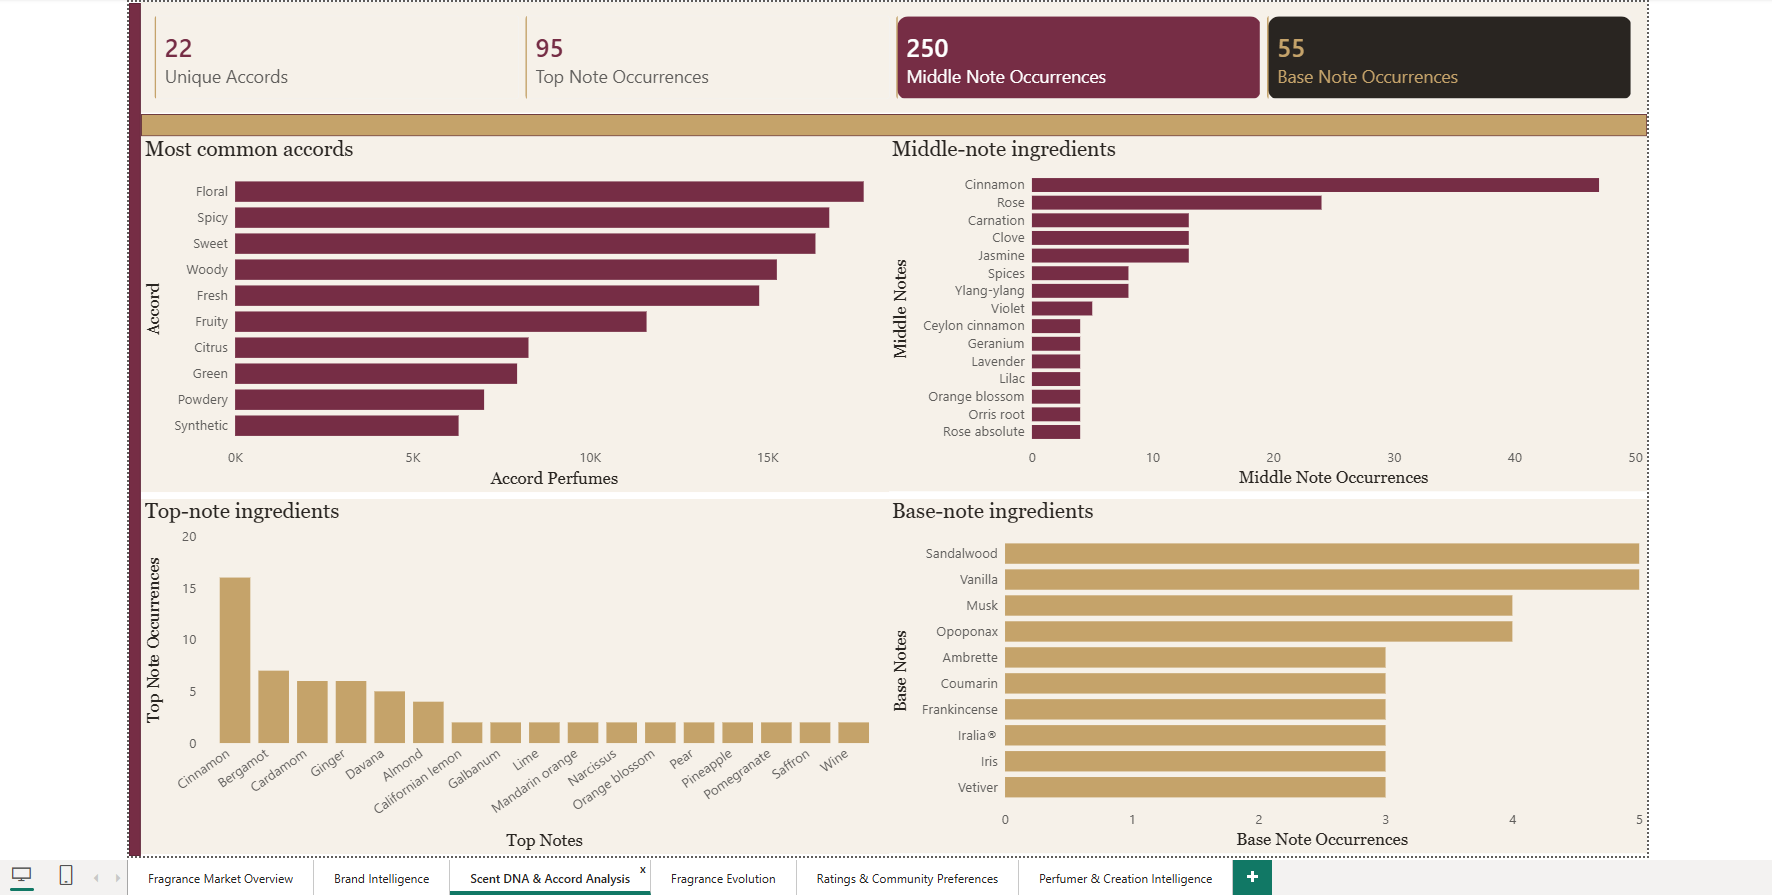

Layout of this report page (visuals, bound fields, positions):
{"tool":"powerbi","page":{"name":"Scent DNA & Accord Analysis","canvas":[1920,1080],"ordinal":2},"visuals":[{"type":"cardVisual","fields":{"Data":["Perfume_Accords.Unique Accords","Top_Notes_Table.Top Note Occurrences","Middle_Notes_Table.Middle Note Occurrences","Base_Notes_Table.Base Note Occurrences"]},"box":[14.8,0,1904.8,140],"z":0},{"type":"clusteredBarChart","title":"Most common accords","fields":{"Category":["Perfume_Accords.Accord"],"Y":["Perfume_Accords.Accord Perfumes"]},"box":[14.8,170.6,945.7,448.7],"z":1000},{"type":"clusteredColumnChart","title":"Top-note ingredients","fields":{"Category":["Top_Notes_Table.Top Notes"],"Y":["Top_Notes_Table.Top Note Occurrences"]},"box":[14.8,628.7,945.7,448.7],"z":2000},{"type":"clusteredBarChart","title":"Middle-note ingredients","fields":{"Category":["Middle_Notes_Table.Middle Notes"],"Y":["Middle_Notes_Table.Middle Note Occurrences"]},"box":[960,171,960,448],"z":3000},{"type":"clusteredBarChart","title":"Base-note ingredients","fields":{"Category":["Base_Notes_Table.Base Notes"],"Y":["Base_Notes_Table.Base Note Occurrences"]},"box":[960,629,960,448],"z":4000},{"type":"shape","box":[0,1.3,14.8,1078.7],"z":5000},{"type":"shape","box":[14.8,141,1904.8,28.2],"z":6000}]}

Visuals, with their boxes on the page's 1920x1080 design canvas (x1, y1, x2, y2). These are canvas units, not pixel positions in the 1772x895 screenshot, which may show the page scaled, cropped or inside an application window:
cardVisual - Perfume_Accords.Unique Accords x Top_Notes_Table.Top Note Occurrences: 15,0,1920,140
"Most common accords" clusteredBarChart: 15,171,960,619
"Top-note ingredients" clusteredColumnChart: 15,629,960,1077
"Middle-note ingredients" clusteredBarChart: 960,171,1920,619
"Base-note ingredients" clusteredBarChart: 960,629,1920,1077
shape: 0,1,15,1080
shape: 15,141,1920,169
